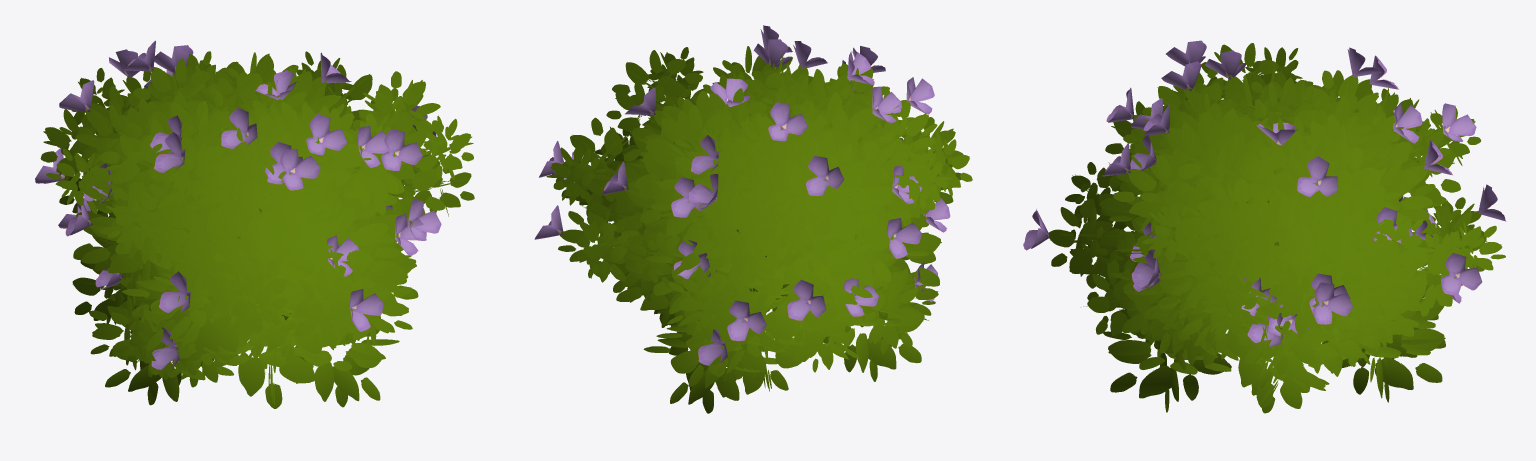
Rendered from Bush_Common_Flowers.glb.
The picture shows the model from 3 angles, left to right: view 1: azimuth 30°, elevation 25°; view 2: azimuth 150°, elevation 25°; view 3: azimuth 270°, elevation 25°; orthographic projection. The views are drawn at different scales.
Visible parts, largest first — view 1: Bush_Common_Flowers; view 2: Bush_Common_Flowers; view 3: Bush_Common_Flowers.
Boxes of the visible parts, bbox=[...] form: Bush_Common_Flowers: bbox=[35, 40, 474, 408]; Bush_Common_Flowers: bbox=[534, 25, 972, 413]; Bush_Common_Flowers: bbox=[1023, 40, 1506, 413].
Size of the model in its own units: 1.91 by 1.58 by 1.97.
Materials: 2 (2 with a texture image).
